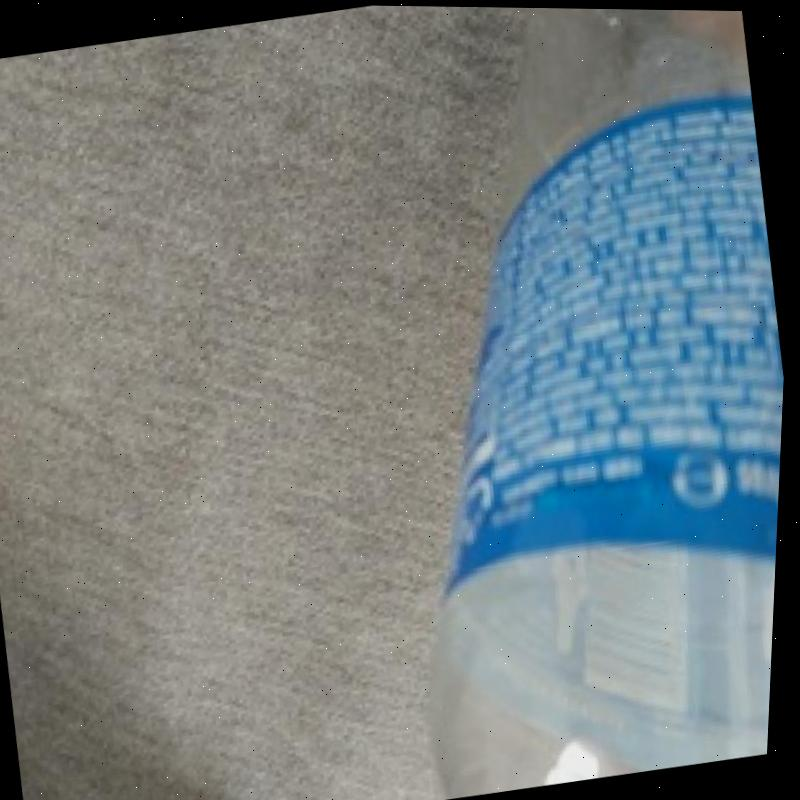botella: (314, 4, 800, 800)
